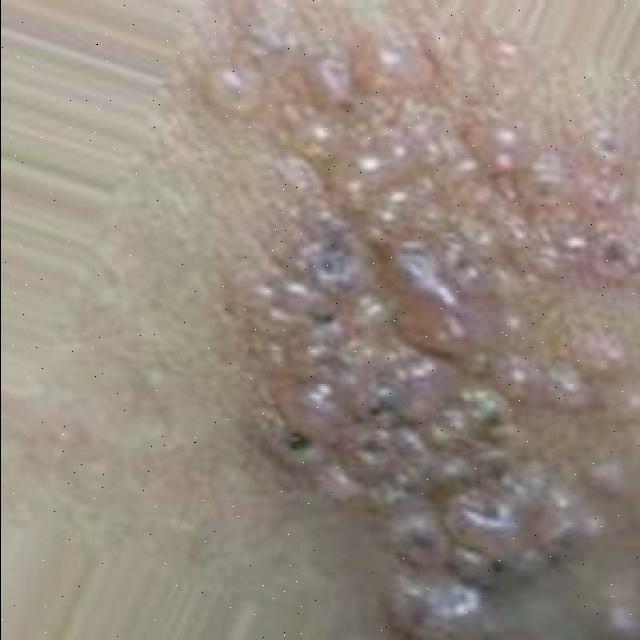Shingles: (189, 6, 640, 640)
